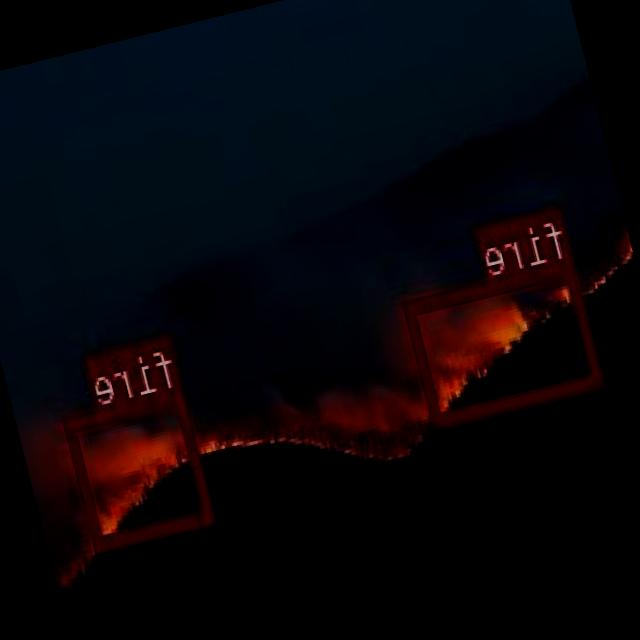fire: (404, 258, 606, 424), (64, 385, 218, 549)
